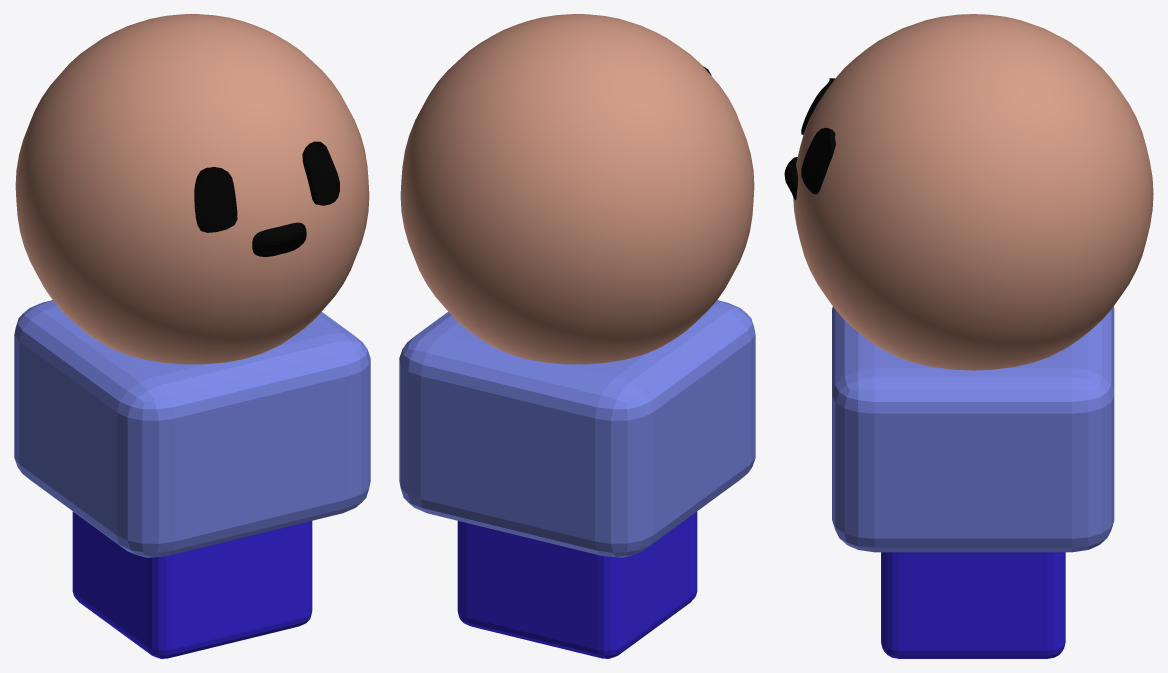
The model's file is Human.fbx.
3 views of the same model, side by side, from view 1: azimuth 30°, elevation 25°; view 2: azimuth 150°, elevation 25°; view 3: azimuth 270°, elevation 25° (orthographic).
Parts seen in each view (by area): view 1: Сфера, Куб.002, Куб.003, Сфера.003, Сфера.001; view 2: Сфера, Куб.002, Куб.003; view 3: Сфера, Куб.002, Куб.003, Сфера.003.
Part boxes in pixels (box(x1,y1,x2,y2)): Сфера: box(15, 14, 369, 364); Куб.002: box(14, 300, 370, 557); Куб.003: box(72, 511, 312, 658); Сфера.003: box(194, 141, 339, 232); Сфера.001: box(252, 222, 306, 256); Сфера: box(400, 14, 754, 364); Куб.002: box(399, 300, 755, 557); Куб.003: box(457, 511, 697, 658); Сфера: box(793, 14, 1153, 370); Куб.002: box(832, 306, 1114, 552); Куб.003: box(881, 552, 1065, 658); Сфера.003: box(801, 78, 835, 194).
Bounding box in the file's own units: 200 × 364 × 205.
